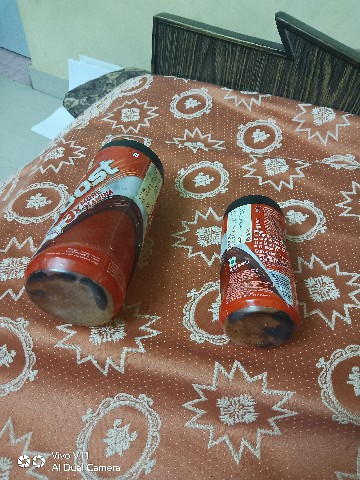boost big: (19, 128, 171, 323)
boost small: (207, 176, 307, 345)
